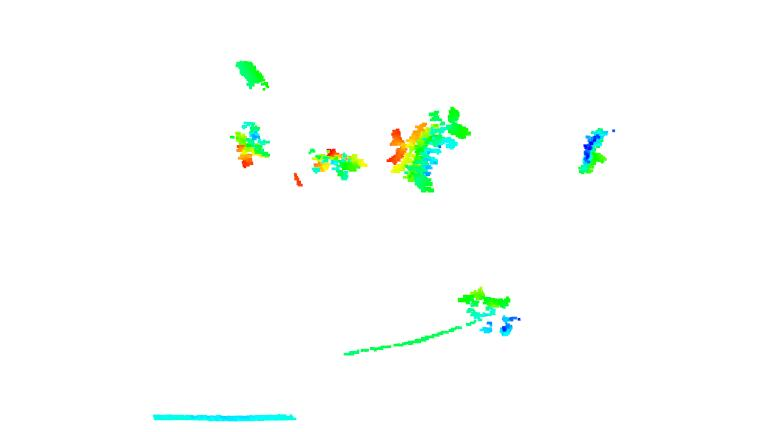chickpea: (384, 104, 475, 197), (456, 288, 521, 337), (307, 146, 370, 182), (228, 120, 272, 170), (576, 124, 612, 177)
